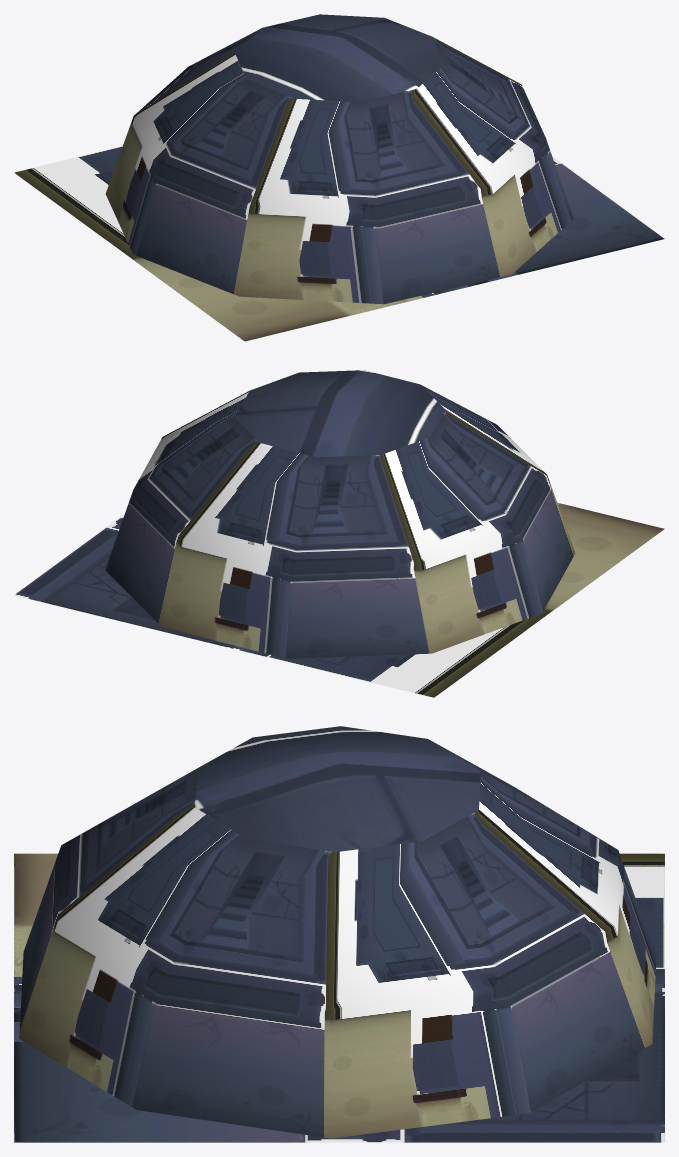
The model's file is Combined_Mesh_root_scene__14_f2bde634__churchyard_diffuse_10_c01c4c4b_c1f257.obj.
3 views of the same model, one above another, from view 1: azimuth 30°, elevation 25°; view 2: azimuth 150°, elevation 25°; view 3: azimuth 270°, elevation 25° (orthographic). The views are drawn at different scales.
Size of the model in its own units: 139 by 56.25 by 132.
Materials: 190 (190 with a texture image).
